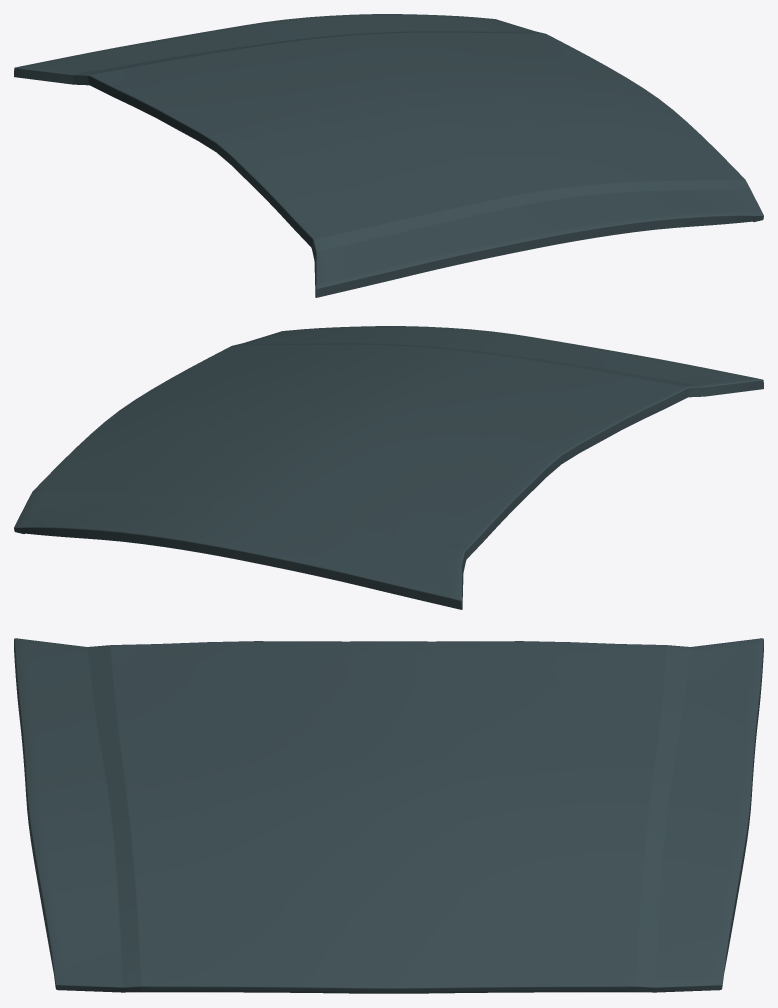
3 views of the same model, one above another, from view 1: azimuth 30°, elevation 25°; view 2: azimuth 150°, elevation 25°; view 3: azimuth 270°, elevation 25° (orthographic). The views are drawn at different scales.
Parts seen in each view (by area): view 1: P222_15_101B_C_1_DaS_P222_15_101B_C; view 2: P222_15_101B_C_1_DaS_P222_15_101B_C; view 3: P222_15_101B_C_1_DaS_P222_15_101B_C.
Boxes of the visible parts, x1,y1,x2,y2 form: P222_15_101B_C_1_DaS_P222_15_101B_C: (14, 14, 763, 297); P222_15_101B_C_1_DaS_P222_15_101B_C: (14, 326, 763, 609); P222_15_101B_C_1_DaS_P222_15_101B_C: (14, 638, 763, 993).
Size of the model in its own units: 143 by 22.16 by 152.
